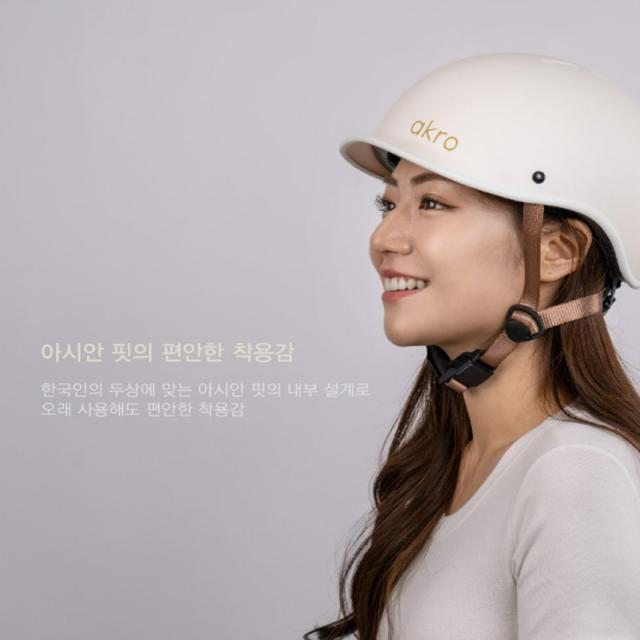with_helmet: (340, 53, 640, 358)
